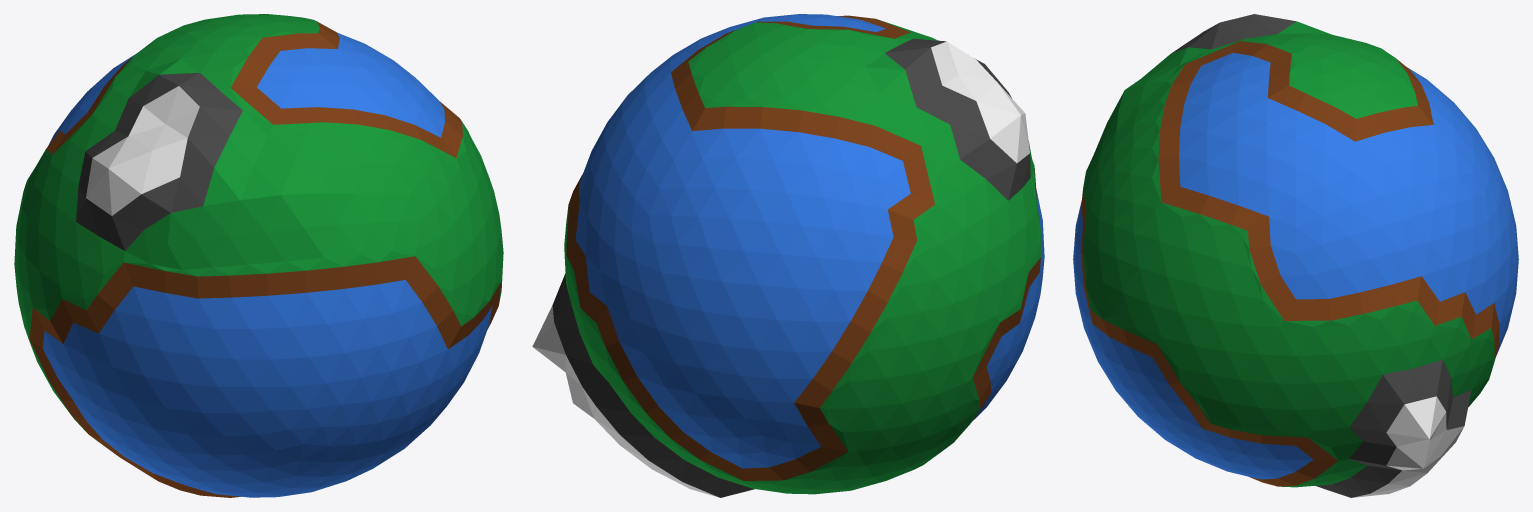
3 renders of one model, left to right at view 1: azimuth 30°, elevation 25°; view 2: azimuth 150°, elevation 25°; view 3: azimuth 270°, elevation 25°, orthographic. The views are drawn at different scales.
Visible parts, largest first — view 1: Icosphere; view 2: Icosphere; view 3: Icosphere.
Part boxes in pixels (x1,y1,x2,y2): Icosphere: (14, 14, 503, 497); Icosphere: (532, 14, 1044, 497); Icosphere: (1073, 14, 1518, 497).
Bounding box in the file's own units: 52.47 × 53 × 51.33.
